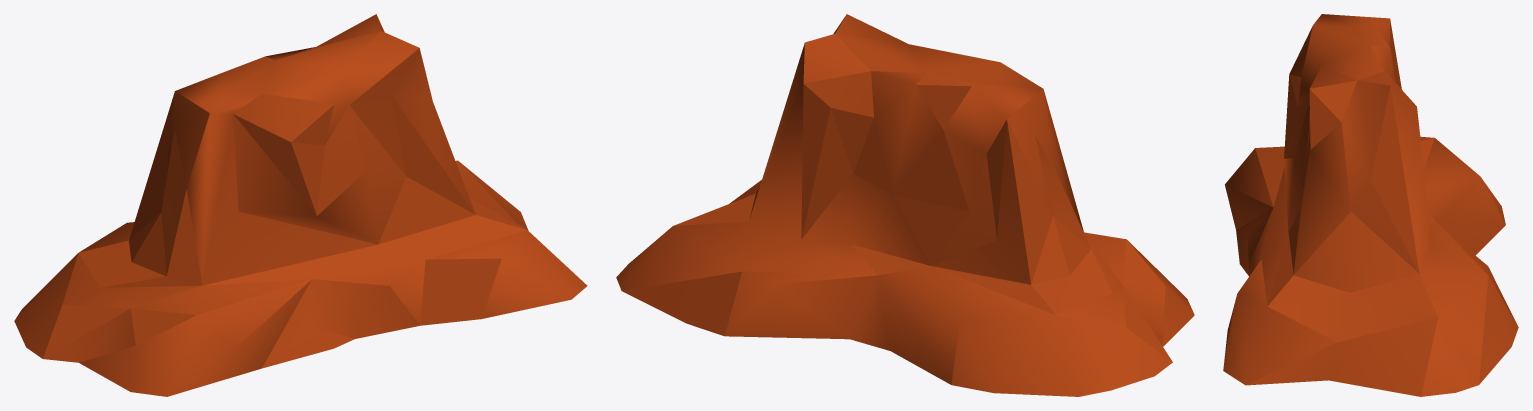
File: Plateau_desert_002.glb
3 views of the same model, side by side, from view 1: azimuth 30°, elevation 25°; view 2: azimuth 150°, elevation 25°; view 3: azimuth 270°, elevation 25° (orthographic). The views are drawn at different scales.
Parts seen in each view (by area): view 1: Plateau_desert_002; view 2: Plateau_desert_002; view 3: Plateau_desert_002.
Boxes of the visible parts, <box> form: Plateau_desert_002: <box>14,14,587,396</box>; Plateau_desert_002: <box>616,14,1194,396</box>; Plateau_desert_002: <box>1223,14,1518,396</box>.
Bounding box in the file's own units: 49.1 × 22.86 × 25.83.
1 material, 1 textured.
